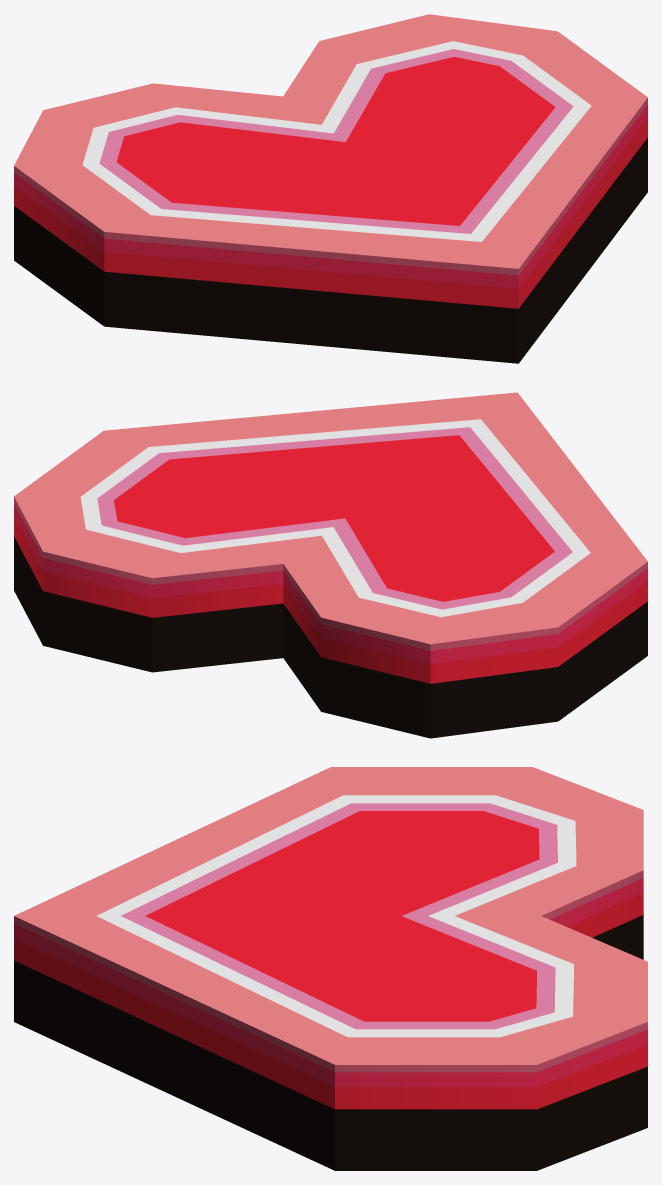
The model's file is Heart1-2.fbx.
The picture shows the model from 3 angles, top to bottom: view 1: azimuth 30°, elevation 25°; view 2: azimuth 150°, elevation 25°; view 3: azimuth 270°, elevation 25°; orthographic projection. The views are drawn at different scales.
Visible parts, largest first — view 1: Heart1-2; view 2: Heart1-2; view 3: Heart1-2.
Boxes of the visible parts, x1,y1,x2,y2 form: Heart1-2: [14, 14, 647, 363]; Heart1-2: [14, 392, 647, 738]; Heart1-2: [14, 767, 647, 1170].
Size of the model in its own units: 0.4575 by 0.076 by 0.4116.
